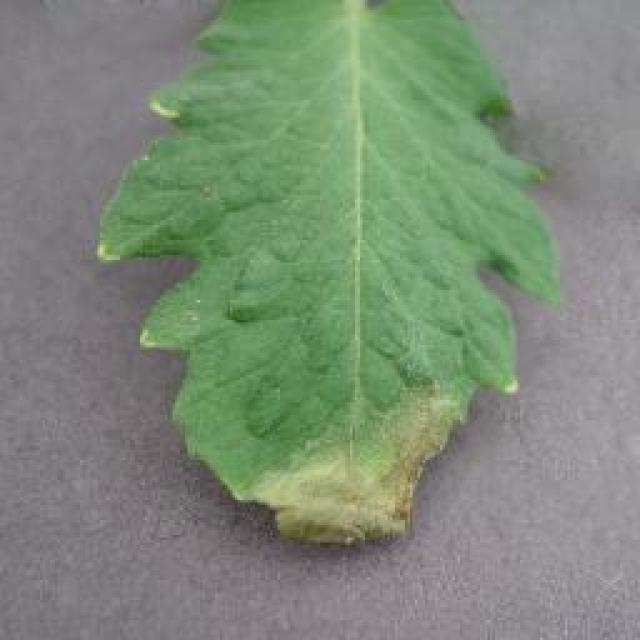Tomato Late Blight: (272, 338, 433, 554)
